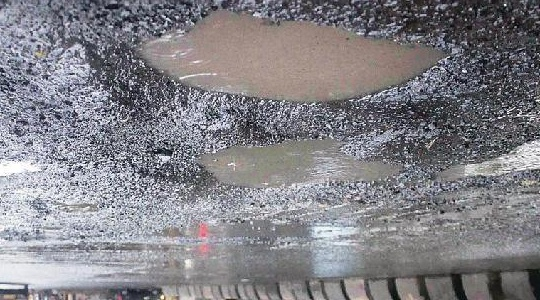pothole: (95, 6, 459, 120), (172, 134, 412, 201)
